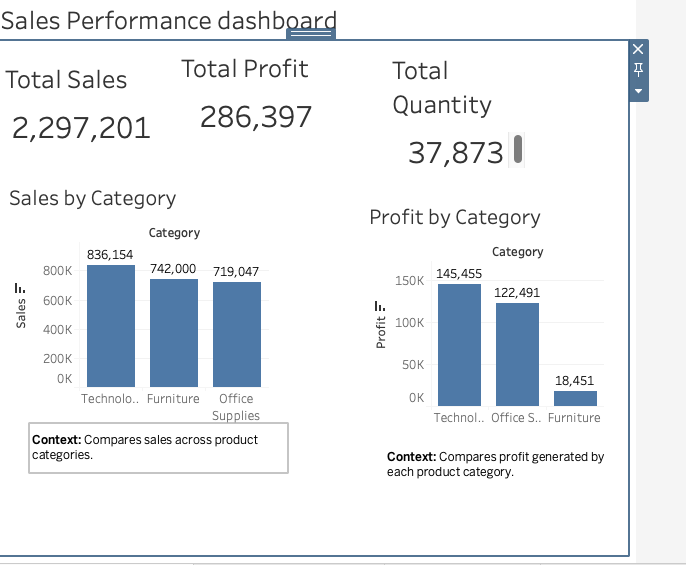

This screenshot's page, from the dashboard's own definition file:
{"tool":"tableau","page":{"name":"Sales Performance dashboard","canvas":[650,860],"ordinal":2},"visuals":[{"type":"title","box":[8,12,634,63.1]},{"type":"worksheet","title":"KPI-Total Profit","mark":"Automatic","box":[191,84.2,199,186.4]},{"type":"worksheet","title":"KPI-Total quantity","mark":"Automatic","box":[402,87.2,171,178.9]},{"type":"worksheet","title":"KPI-Total sales","mark":"Automatic","box":[15,100.7,166,206]},{"type":"worksheet","title":"Sales by Category","mark":"Automatic","rows":["Sales"],"cols":["Category"],"box":[19,282.7,264,371.4]},{"type":"worksheet","title":"Profit by category","mark":"Automatic","rows":["Profit"],"cols":["Category"],"box":[379,311.2,239,344.3]},{"type":"text","box":[44,651,257,72.2]},{"type":"text","box":[399,670.6,233,84.2]}]}

Visuals, with their boxes on the page's 650x860 design canvas (x1, y1, x2, y2). These are canvas units, not pixel positions in the 686x565 screenshot, which may show the page scaled, cropped or inside an application window:
title: <box>8,12,642,75</box>
"KPI-Total Profit" worksheet: <box>191,84,390,271</box>
"KPI-Total quantity" worksheet: <box>402,87,573,266</box>
"KPI-Total sales" worksheet: <box>15,101,181,307</box>
"Sales by Category" worksheet: <box>19,283,283,654</box>
"Profit by category" worksheet: <box>379,311,618,656</box>
text: <box>44,651,301,723</box>
text: <box>399,671,632,755</box>
